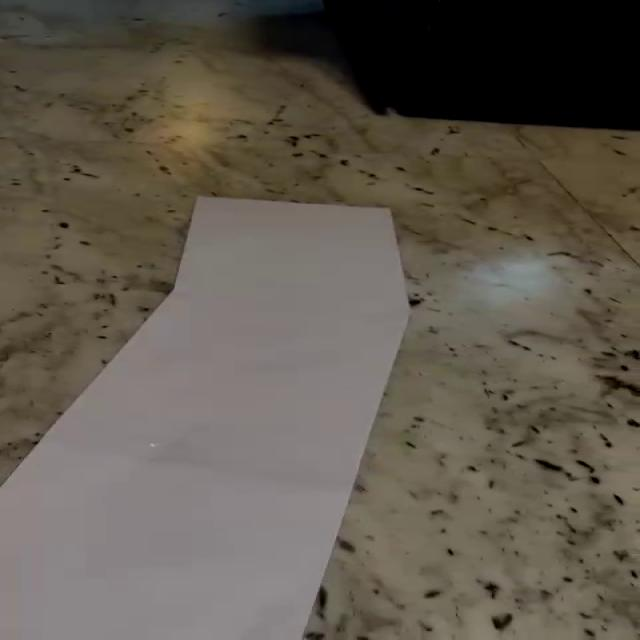road: (2, 197, 408, 640)
